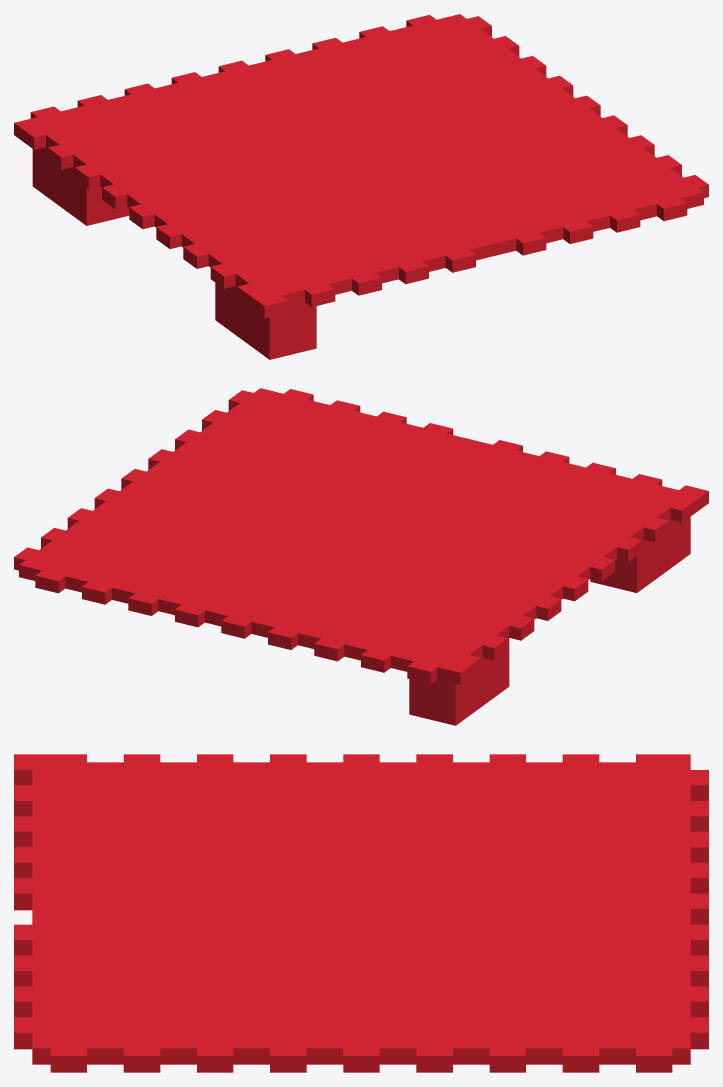
File: tinker.obj
3 views of the same model, one above another, from view 1: azimuth 30°, elevation 25°; view 2: azimuth 150°, elevation 25°; view 3: azimuth 270°, elevation 25° (orthographic). The views are drawn at different scales.
Parts seen in each view (by area): view 1: obj_0; view 2: obj_0; view 3: obj_0.
Boxes of the visible parts, left/top/right/bottom form: obj_0: left=14, top=14, right=708, bottom=359; obj_0: left=14, top=388, right=708, bottom=725; obj_0: left=14, top=754, right=708, bottom=1072.
Bounding box in the file's own units: 195 × 25 × 190.
